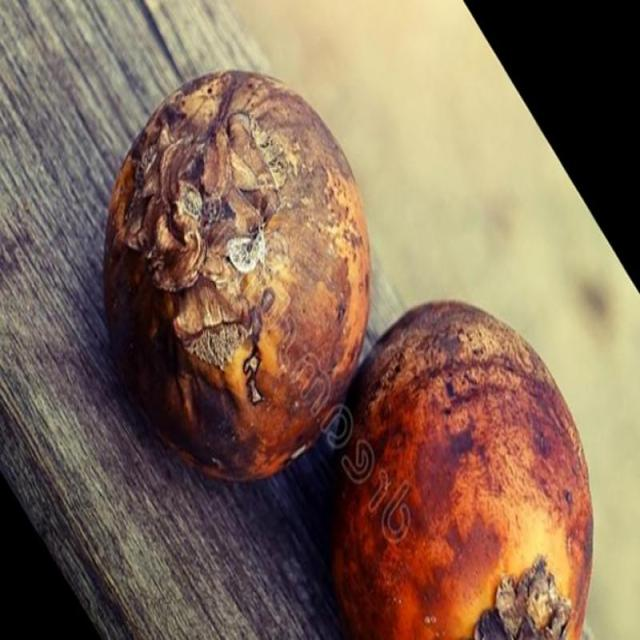damaged: (105, 71, 369, 477), (333, 301, 593, 639)
